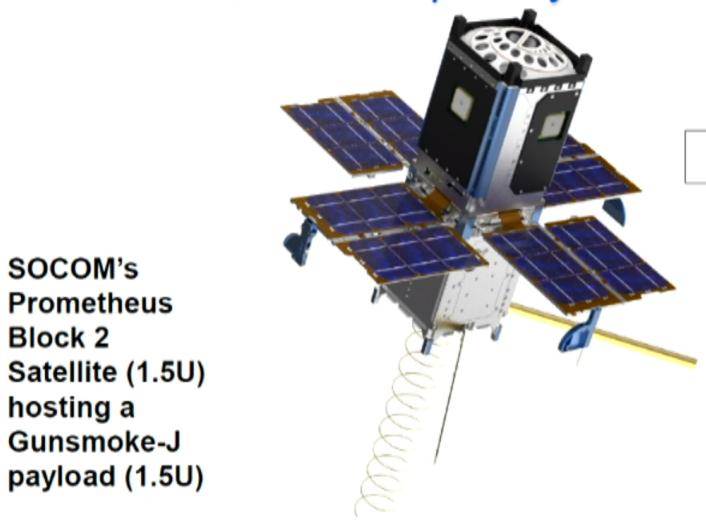antenna: (349, 316, 453, 520), (430, 322, 471, 470)
body: (376, 12, 595, 360)
solar: (288, 180, 490, 286), (480, 214, 679, 313), (278, 89, 425, 177), (545, 133, 644, 207)
